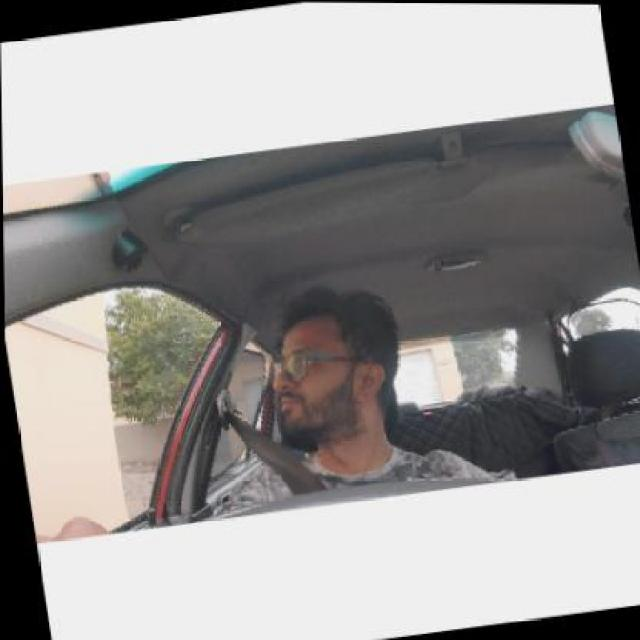LeftRight: (252, 274, 416, 470)
